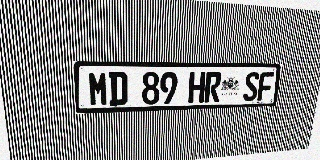8: (142, 72, 160, 105)
9: (160, 72, 178, 104)
D: (108, 71, 128, 106)
F: (257, 72, 274, 101)
H: (188, 72, 206, 103)
M: (88, 71, 108, 106)
R: (204, 72, 222, 102)
S: (243, 72, 260, 101)
